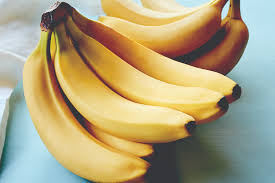banana: (18, 4, 253, 183)
